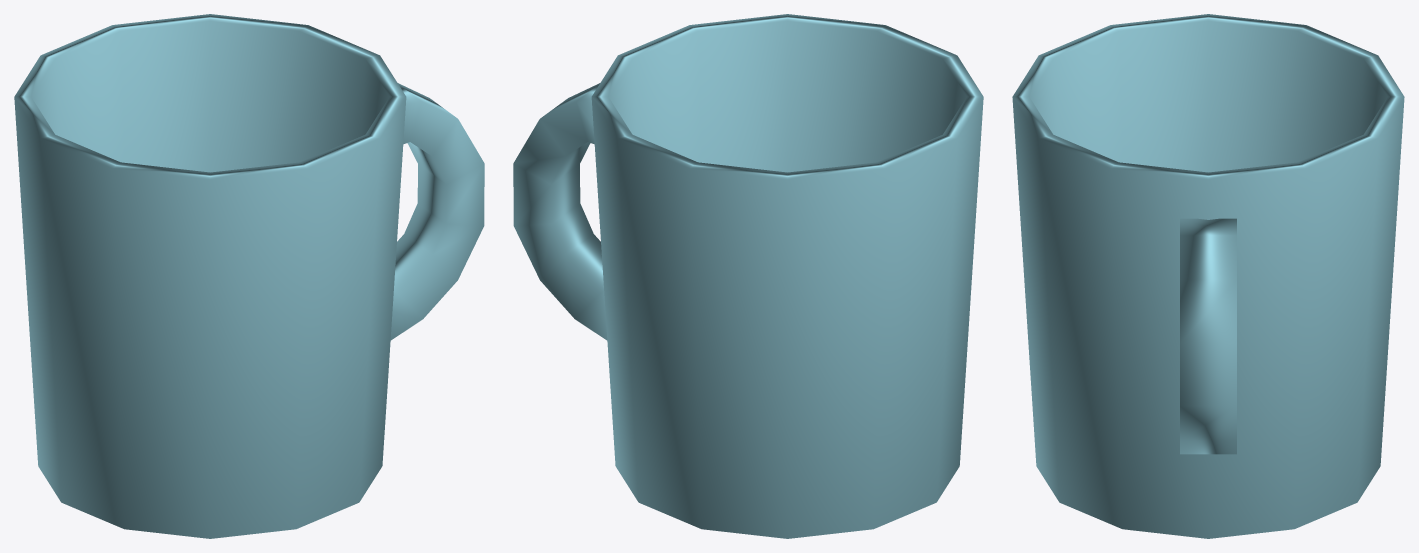
File: TadanoCup.fbx
3 views of the same model, side by side, from view 1: azimuth 30°, elevation 25°; view 2: azimuth 150°, elevation 25°; view 3: azimuth 270°, elevation 25° (orthographic).
Parts seen in each view (by area): view 1: 円柱.002; view 2: 円柱.002; view 3: 円柱.002.
Part boxes in pixels (x1,y1,x2,y2): 円柱.002: (14,14,484,538); 円柱.002: (513,14,983,538); 円柱.002: (1012,14,1404,538).
Bounding box in the file's own units: 374 × 307 × 295.
